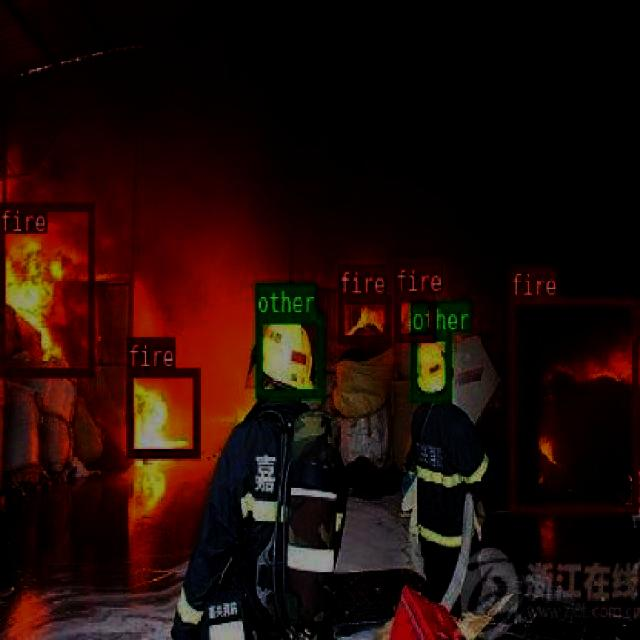fire: (509, 296, 637, 512), (0, 202, 94, 376), (125, 367, 198, 456), (338, 294, 390, 342), (393, 292, 433, 342)
